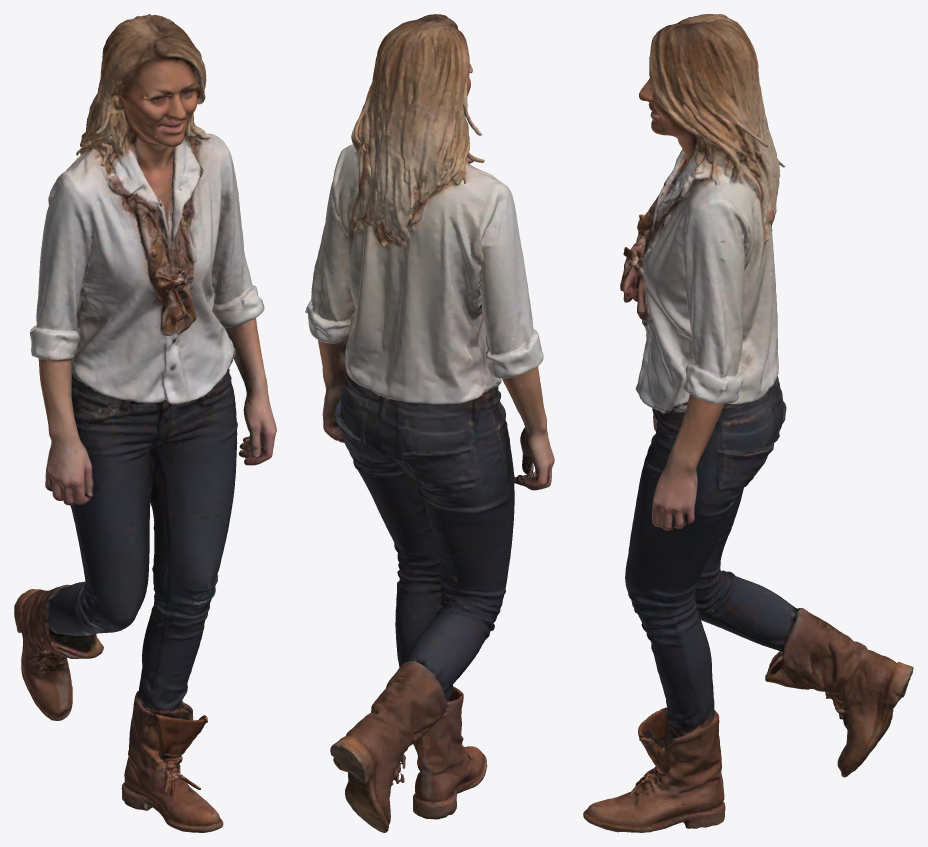
The model's file is visitor-woman.glb.
3 views of the same model, side by side, from view 1: azimuth 30°, elevation 25°; view 2: azimuth 150°, elevation 25°; view 3: azimuth 270°, elevation 25° (orthographic). The views are drawn at different scales.
Visible parts, largest first — view 1: mesh_0; view 2: mesh_0; view 3: mesh_0.
Part boxes in pixels (x1,y1,x2,y2): mesh_0: (14, 14, 276, 832); mesh_0: (305, 14, 554, 832); mesh_0: (583, 14, 913, 832).
Bounding box in the file's own units: 0.5778 × 1.9 × 0.7089.
1 material, 1 textured.
